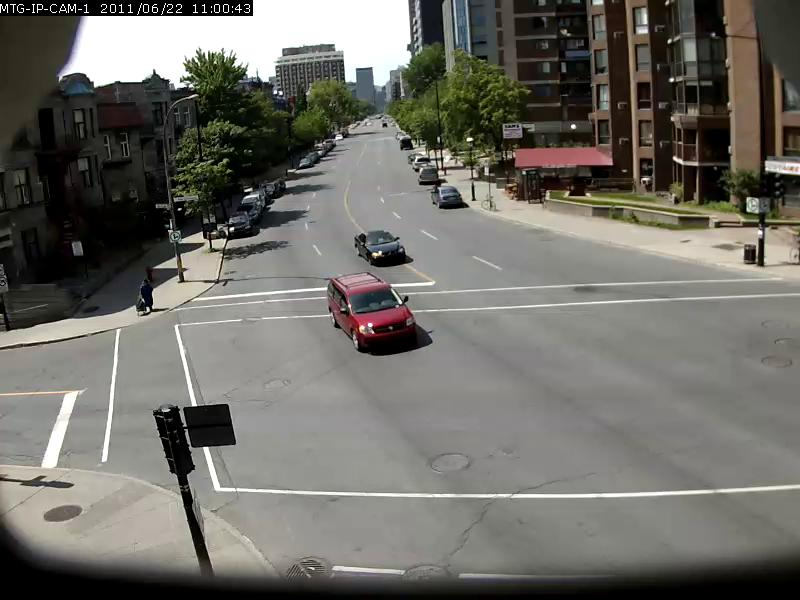Car: (325, 270, 420, 351), (351, 228, 407, 268)
